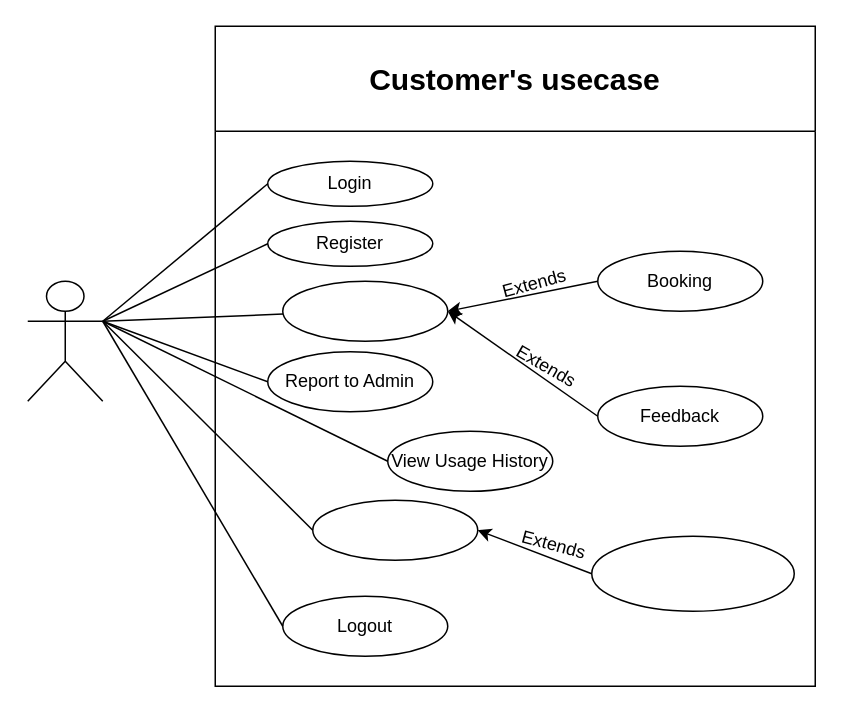
This 842x713 diagram has some shape labels left out. The shapes that lost their labels are listed below. From the top down, each one's centre as x and y in pixels, then its label:
the point at 364,310: Tracking Gas Station
the point at 64,340: Customer
the point at 394,529: Edit Profile
the point at 692,573: Change to business account
